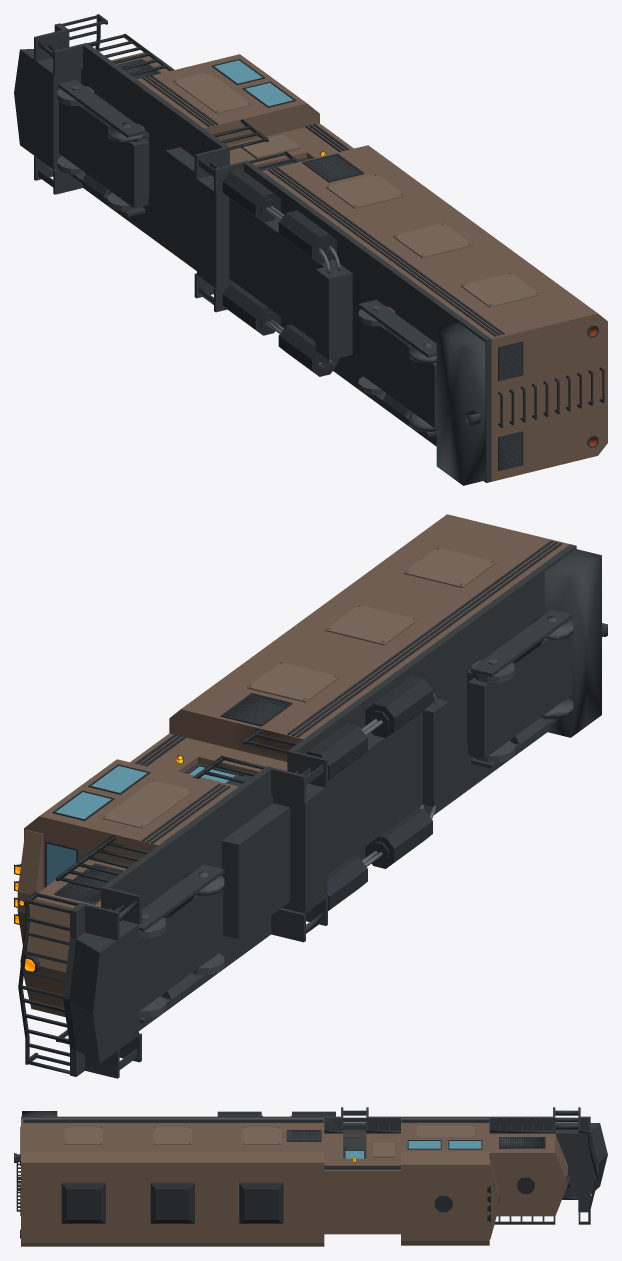
File: Train1Broke.fbx
3 views of the same model, one above another, from view 1: azimuth 30°, elevation 25°; view 2: azimuth 150°, elevation 25°; view 3: azimuth 270°, elevation 25° (orthographic). The views are drawn at different scales.
Parts seen in each view (by area): view 1: Train1_fracturepart23_18, Train1_fracturepart_158, Train1_fracturepart28_9, Train1_fracturepart14_24, Train1_fracturepart14_27, Train1_fracturepart9_10, Train1_fracturepart5_8, Train1_fracturepart12_7, Train1_fracturepart13_8, Train1_fracturepart13_5, Train1_fracturepart24_6, Train1_fracturepart20_7 (+37 smaller); view 2: Train1_fracturepart9_10, Train1_fracturepart5_8, Train1_fracturepart_158, Train1_fracturepart3_8, Train1_fracturepart14_27, Train1_fracturepart12_7, Train1_fracturepart20_7, Train1_fracturepart24_6, Train1_fracturepart14_24, Train1_fracturepart23_18, Train1_fracturepart13_5, Train1_fracturepart21_9 (+37 smaller); view 3: Train1_fracturepart22_5, Train1_fracturepart24_6, Train1_fracturepart4, Train1_fracturepart23_18, Train1_fracturepart26_4, Train1_fracturepart7_3, Train1_fracturepart2, Train1_fracturepart5_8, Train1_fracturepart17_2, Train1_fracturepart27_21, Train1_fracturepart3_8, Train1_fracturepart9_10 (+39 smaller).
Part boxes in pixels (bbox=[...]): Train1_fracturepart23_18: bbox=[476, 265, 607, 380]; Train1_fracturepart_158: bbox=[436, 323, 485, 485]; Train1_fracturepart28_9: bbox=[489, 368, 607, 482]; Train1_fracturepart14_24: bbox=[411, 286, 514, 482]; Train1_fracturepart14_27: bbox=[372, 314, 436, 436]; Train1_fracturepart9_10: bbox=[14, 23, 90, 132]; Train1_fracturepart5_8: bbox=[55, 43, 257, 121]; Train1_fracturepart12_7: bbox=[194, 175, 234, 312]; Train1_fracturepart13_8: bbox=[97, 114, 149, 216]; Train1_fracturepart13_5: bbox=[134, 87, 203, 181]; Train1_fracturepart24_6: bbox=[409, 229, 532, 297]; Train1_fracturepart20_7: bbox=[327, 223, 408, 410]; Train1_fracturepart9_10: bbox=[63, 895, 141, 1022]; Train1_fracturepart5_8: bbox=[24, 800, 175, 909]; Train1_fracturepart_158: bbox=[544, 549, 601, 737]; Train1_fracturepart3_8: bbox=[149, 683, 289, 773]; Train1_fracturepart14_27: bbox=[495, 609, 572, 751]; Train1_fracturepart12_7: bbox=[245, 777, 327, 952]; Train1_fracturepart20_7: bbox=[387, 614, 482, 799]; Train1_fracturepart24_6: bbox=[315, 569, 488, 614]; Train1_fracturepart14_24: bbox=[480, 539, 576, 764]; Train1_fracturepart23_18: bbox=[372, 514, 547, 575]; Train1_fracturepart13_5: bbox=[152, 790, 242, 889]; Train1_fracturepart21_9: bbox=[341, 724, 405, 849]; Train1_fracturepart22_5: bbox=[341, 1142, 470, 1224]; Train1_fracturepart24_6: bbox=[85, 1118, 172, 1245]; Train1_fracturepart4: bbox=[189, 1133, 312, 1204]; Train1_fracturepart23_18: bbox=[21, 1124, 108, 1201]; Train1_fracturepart26_4: bbox=[243, 1175, 346, 1246]; Train1_fracturepart7_3: bbox=[418, 1157, 506, 1245]; Train1_fracturepart2: bbox=[156, 1144, 246, 1246]; Train1_fracturepart5_8: bbox=[459, 1107, 555, 1191]; Train1_fracturepart17_2: bbox=[21, 1215, 156, 1246]; Train1_fracturepart27_21: bbox=[502, 1134, 571, 1216]; Train1_fracturepart3_8: bbox=[274, 1124, 361, 1183]; Train1_fracturepart9_10: bbox=[550, 1107, 607, 1174].
Size of the model in its own units: 421 by 359 by 2003.
Materials: 2 (1 with a texture image).
